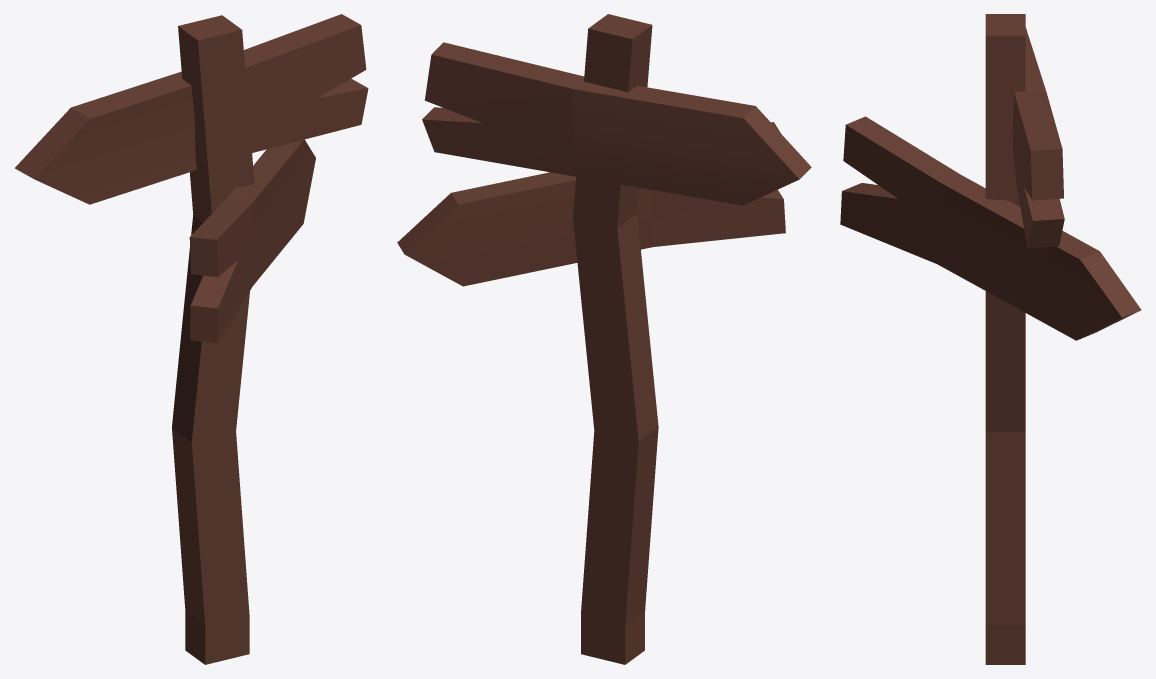
The model's file is signboard2.glb.
3 views of the same model, side by side, from view 1: azimuth 30°, elevation 25°; view 2: azimuth 150°, elevation 25°; view 3: azimuth 270°, elevation 25° (orthographic).
Parts seen in each view (by area): view 1: signboard2; view 2: signboard2; view 3: signboard2.
Part boxes in pixels (bbox=[...]): signboard2: bbox=[15, 14, 368, 664]; signboard2: bbox=[397, 14, 811, 664]; signboard2: bbox=[840, 14, 1141, 664].
Bounding box in the file's own units: 0.9443 × 1.57 × 0.6861.
Materials: 1 (1 with a texture image).
